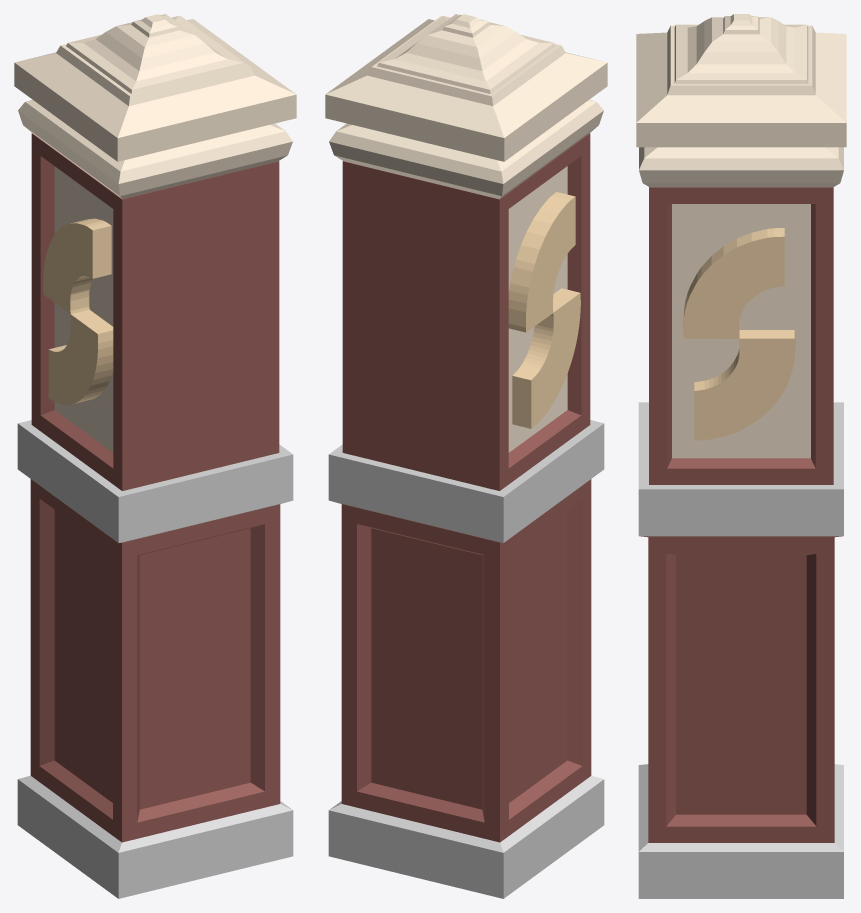
The model's file is Gate.fbx.
3 views of the same model, side by side, from view 1: azimuth 30°, elevation 25°; view 2: azimuth 150°, elevation 25°; view 3: azimuth 270°, elevation 25° (orthographic).
Parts seen in each view (by area): view 1: Cube.034, Cube.035, Cube.036, Curve.002; view 2: Cube.034, Cube.035, Cube.036, Curve.002; view 3: Cube.034, Cube.035, Cube.036, Curve.001.
Part boxes in pixels (x1,y1,x2,y2): Cube.034: [17, 420, 293, 898]; Cube.035: [31, 133, 279, 490]; Cube.036: [14, 14, 296, 199]; Curve.002: [43, 218, 113, 404]; Cube.034: [328, 420, 604, 898]; Cube.035: [342, 133, 590, 490]; Cube.036: [325, 14, 607, 199]; Curve.002: [508, 192, 580, 428]; Cube.034: [638, 402, 843, 898]; Cube.035: [649, 187, 833, 484]; Cube.036: [636, 14, 846, 187]; Curve.001: [683, 228, 795, 440].
Bounding box in the file's own units: 93.06 × 409 × 93.06.
